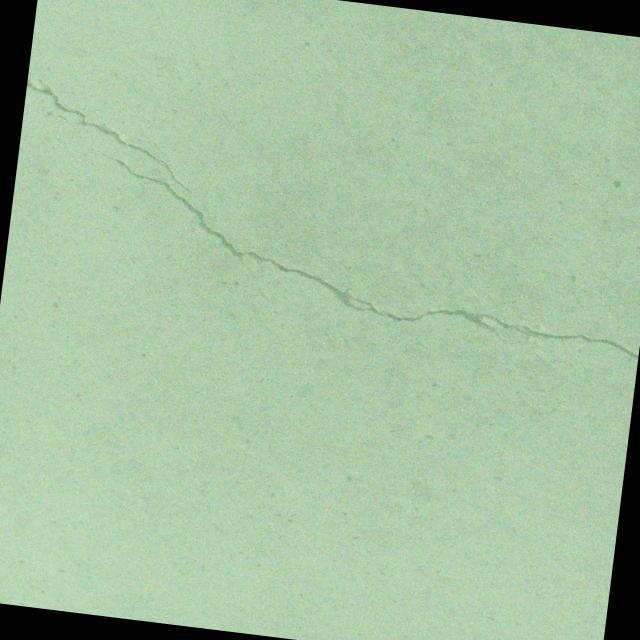crack: (62, 128, 640, 361), (15, 77, 221, 204), (135, 136, 173, 160), (617, 328, 640, 341)
